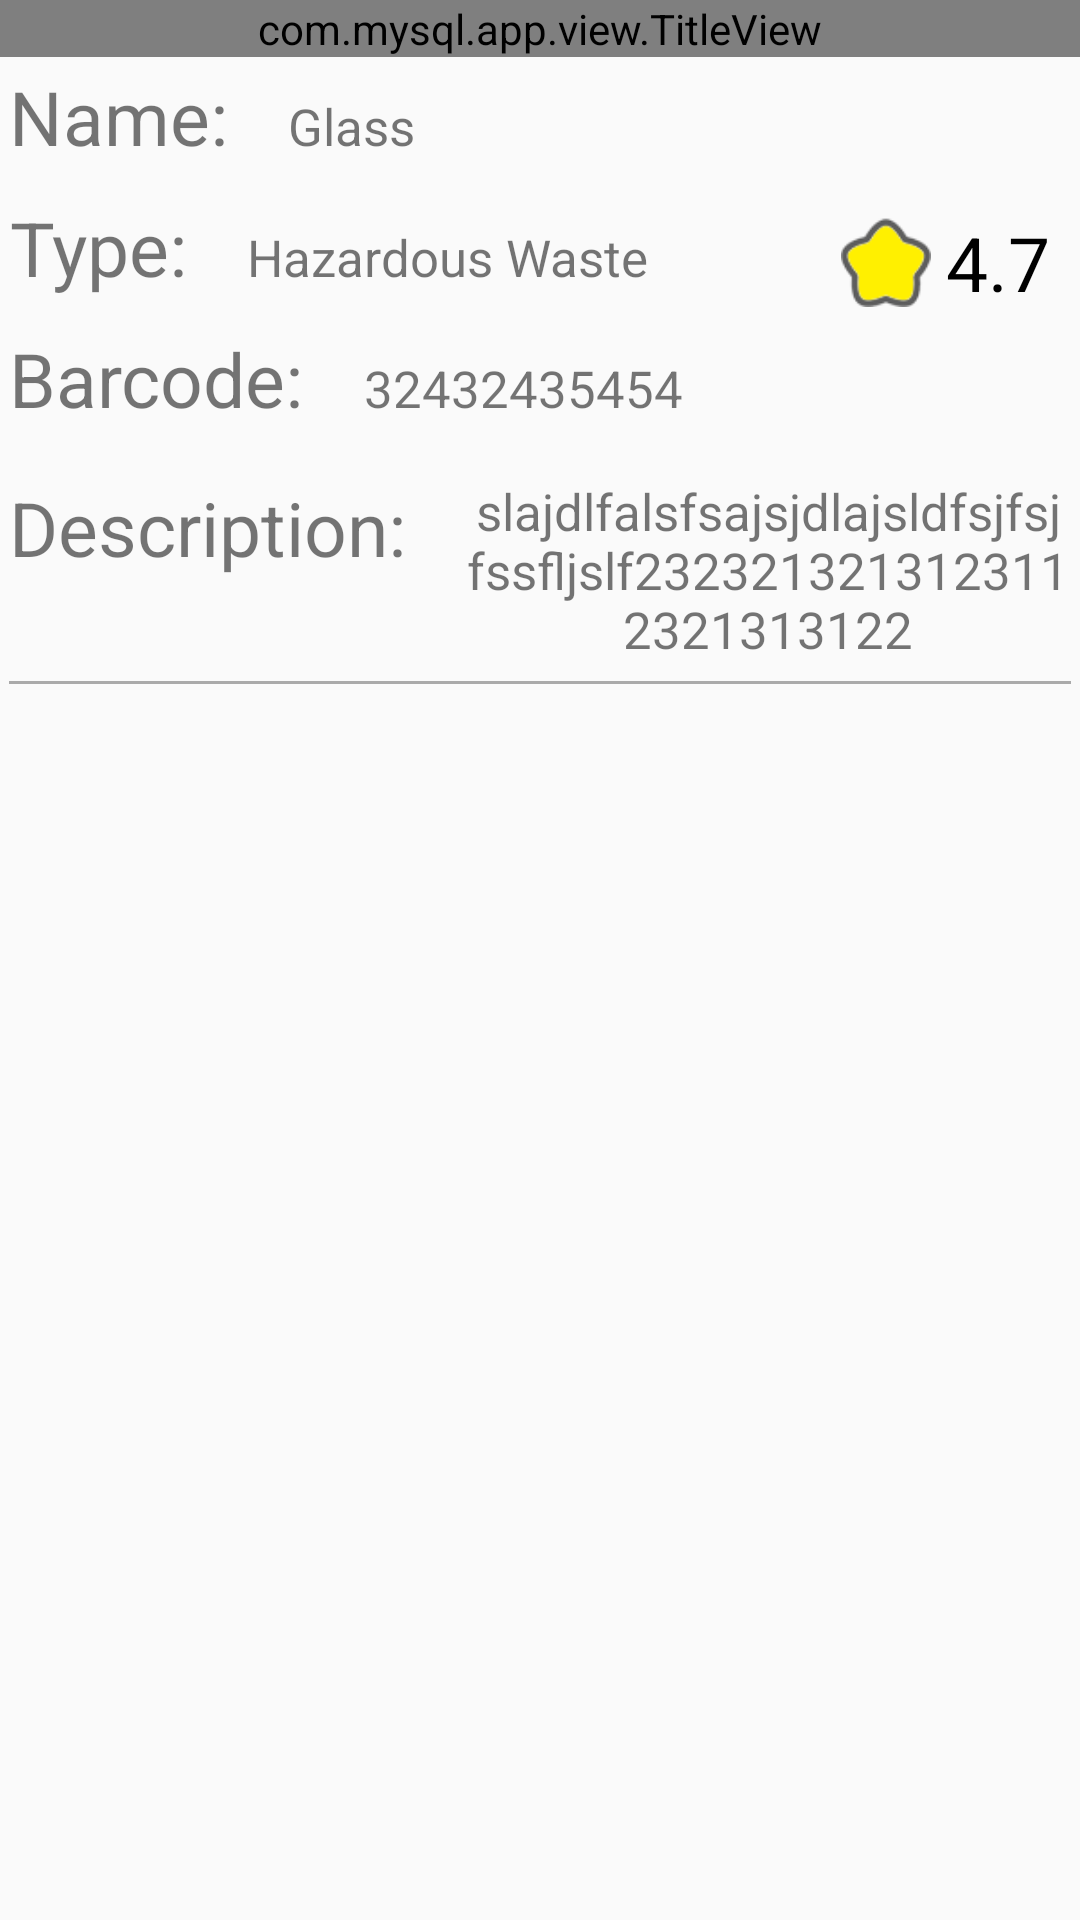

Screen size 1080 × 1920. Icon name, then its box in pixels as [left=x1, top=y1, right=x2, bottom=y2]:
collect: [left=841, top=218, right=931, bottom=307]
